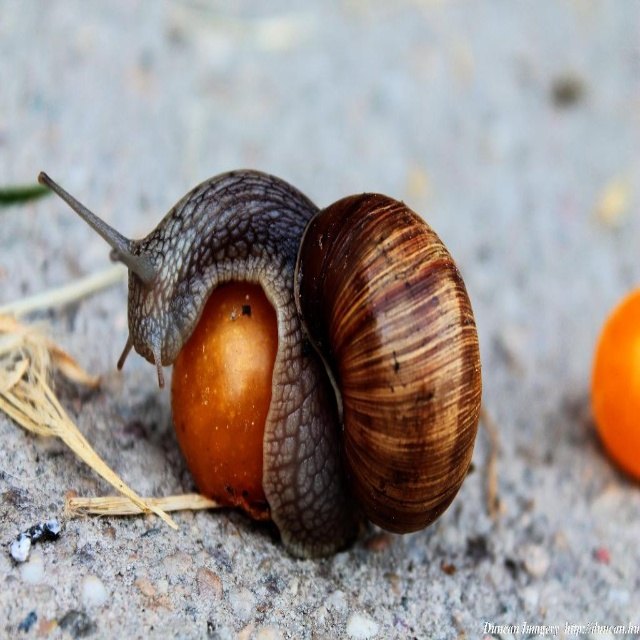Snail: (37, 168, 483, 561)
